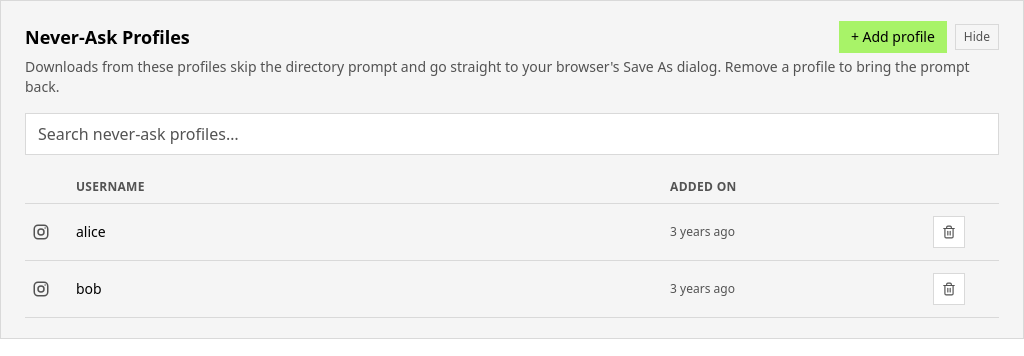
Scenario: NeverAskCard › filters entries by search query
Type "bob" into the search field labelled "Search never-ask profiles…" at (512, 134), box x1=25 y1=113 x2=999 y2=155
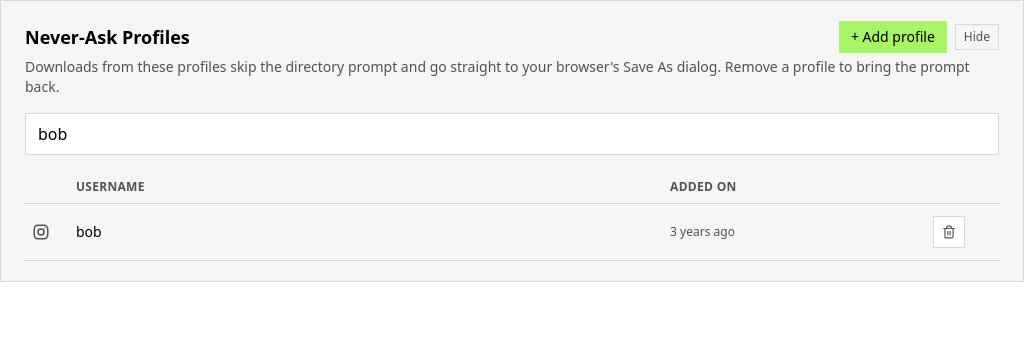
Expected: the row with test id "never-ask-row-bob" is shown, x1=25 y1=204 x2=999 y2=260
Now the row with test id "never-ask-row-alice" is gone
